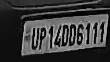1: (98, 20, 106, 44), (48, 23, 55, 49), (92, 21, 99, 45), (84, 22, 91, 45)
4: (54, 26, 63, 49)
6: (76, 22, 84, 47)
D: (69, 23, 77, 46), (62, 22, 69, 47)
P: (39, 27, 47, 50)
U: (30, 27, 39, 52)
